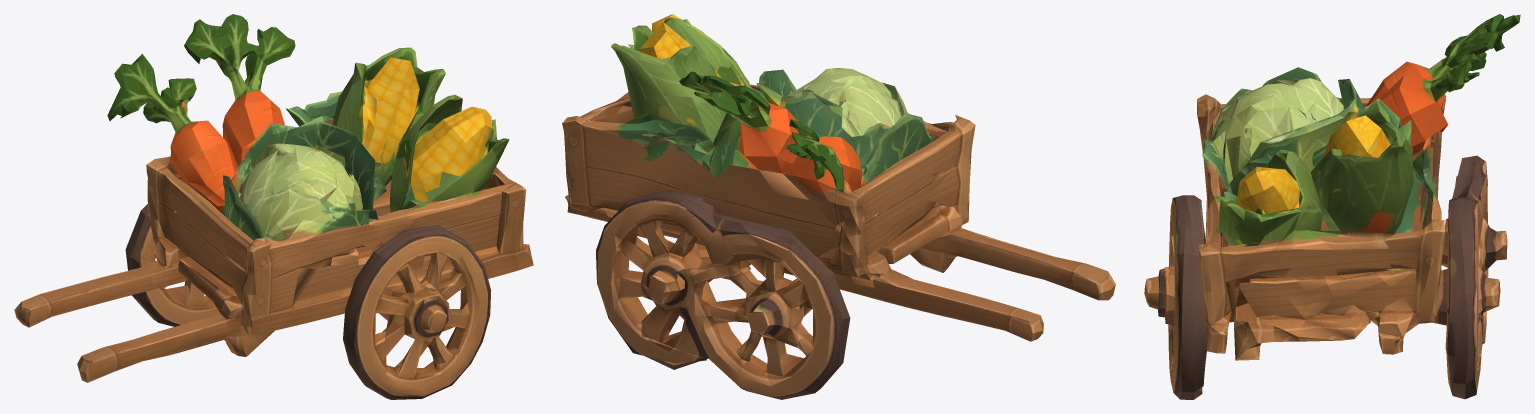
The model's file is hasat-arabasi.glb.
The picture shows the model from 3 angles, left to right: view 1: azimuth 30°, elevation 25°; view 2: azimuth 150°, elevation 25°; view 3: azimuth 270°, elevation 25°; orthographic projection. The views are drawn at different scales.
Parts seen in each view (by area): view 1: Mesh0; view 2: Mesh0; view 3: Mesh0.
Part boxes in pixels (box(x1,y1,x2,y2)): Mesh0: box(14, 14, 533, 399); Mesh0: box(562, 14, 1115, 399); Mesh0: box(1144, 14, 1520, 399).
Bounding box in the file's own units: 1.9 × 1.2 × 1.25.
1 material, 1 textured.
